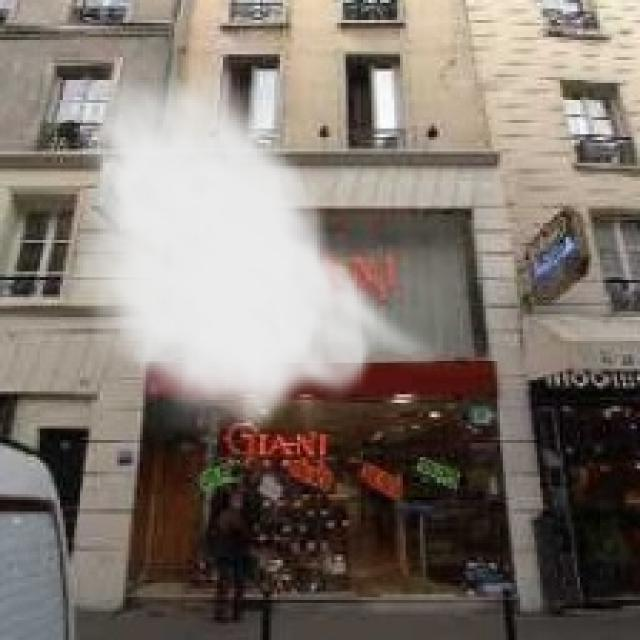Smoke: (66, 48, 446, 443)
